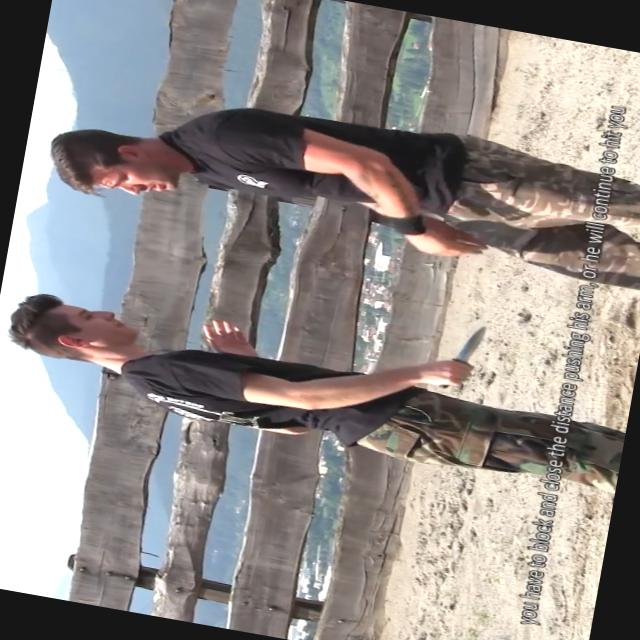knife: (424, 308, 494, 396)
